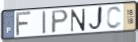C: (106, 6, 123, 31)
F: (15, 11, 33, 37)
I: (41, 10, 47, 36)
J: (87, 5, 104, 33)
N: (70, 8, 87, 34)
P: (51, 9, 70, 35)
